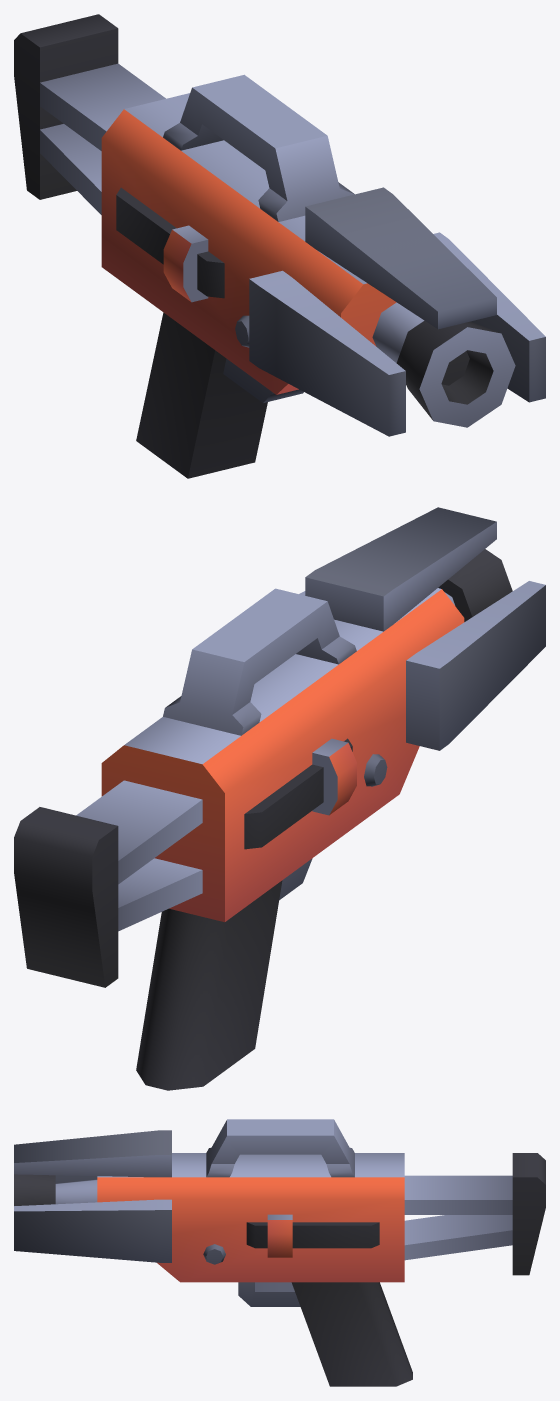
File: weapon_revolver.glb
The picture shows the model from 3 angles, top to bottom: view 1: azimuth 30°, elevation 25°; view 2: azimuth 150°, elevation 25°; view 3: azimuth 270°, elevation 25°; orthographic projection. The views are drawn at different scales.
Parts seen in each view (by area): view 1: blaster-n; view 2: blaster-n; view 3: blaster-n.
Boxes of the visible parts, x1,y1,x2,y2 form: blaster-n: (14,14,545,478); blaster-n: (14,507,545,1090); blaster-n: (14,1119,545,1386).
Bounding box in the file's own units: 7.97 × 15.47 × 30.
